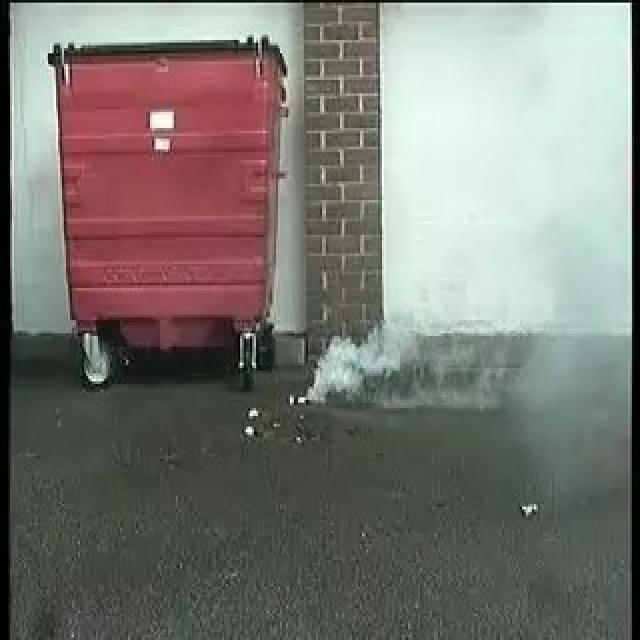smoke: (304, 316, 438, 410)
